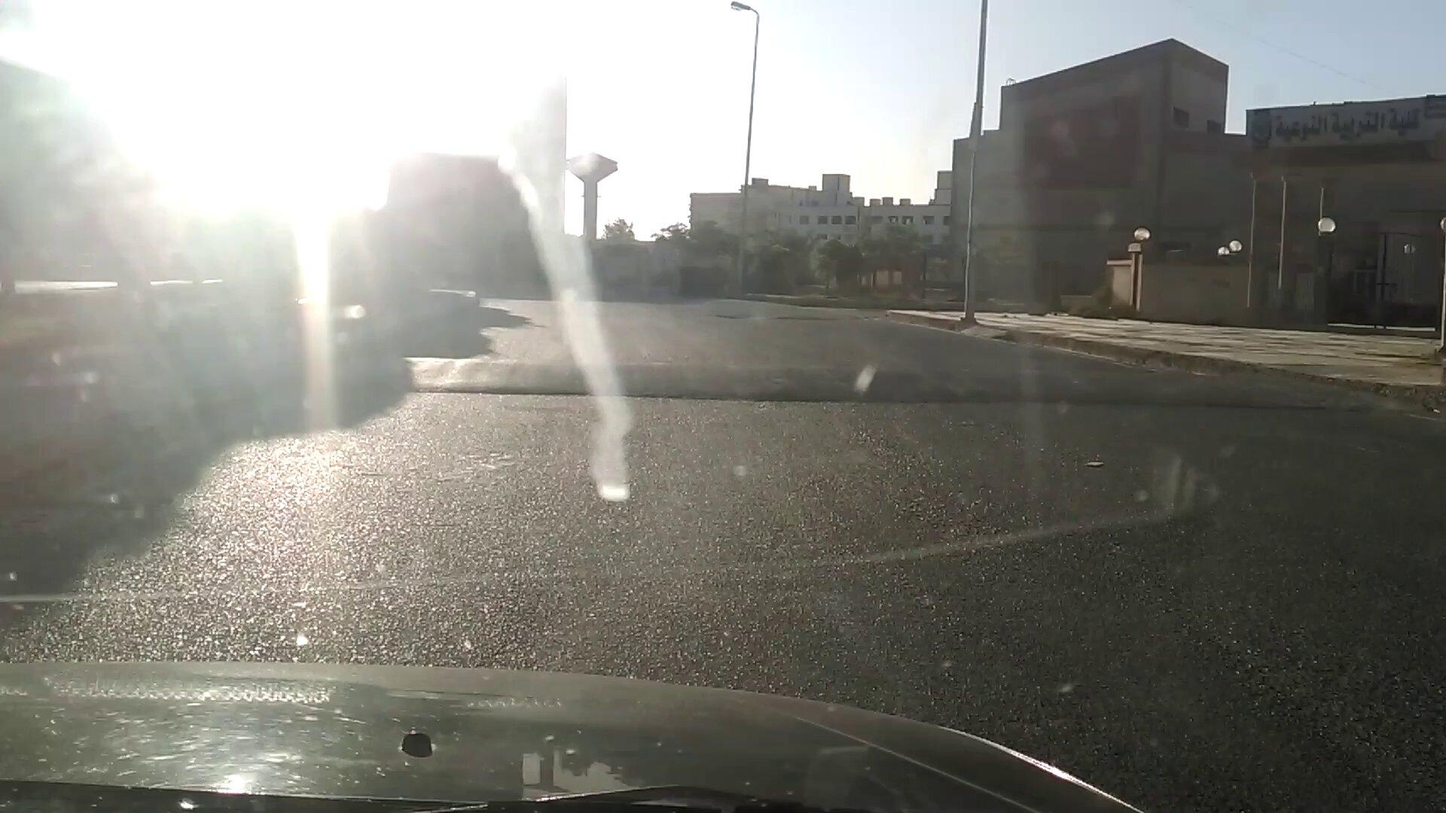Bump: (414, 352, 1374, 427)
